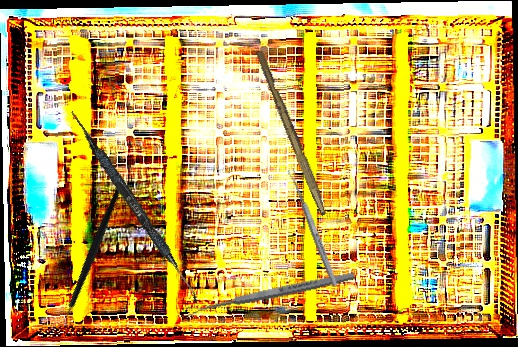Chopper: (23, 188, 163, 333)
Scalpel Handle: (252, 49, 332, 217)
Spatula Surgical: (64, 109, 206, 304)
Surgical Spoon: (185, 270, 356, 317), (286, 167, 340, 288)
